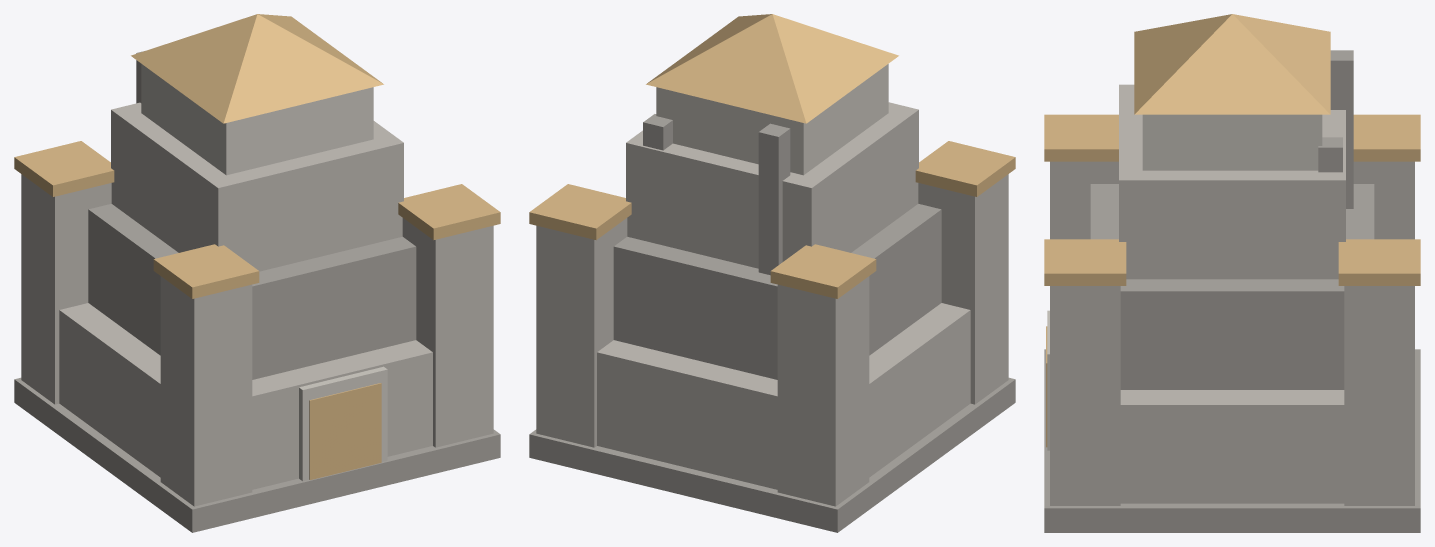
The picture shows the model from 3 angles, left to right: view 1: azimuth 30°, elevation 25°; view 2: azimuth 150°, elevation 25°; view 3: azimuth 270°, elevation 25°; orthographic projection. The views are drawn at different scales.
Parts seen in each view (by area): view 1: body; view 2: body; view 3: body.
Boxes of the visible parts, x1,y1,x2,y2 form: body: [14, 14, 500, 532]; body: [529, 14, 1015, 532]; body: [1044, 14, 1420, 532].
Size of the model in its own units: 13.8 by 17.8 by 13.8.
